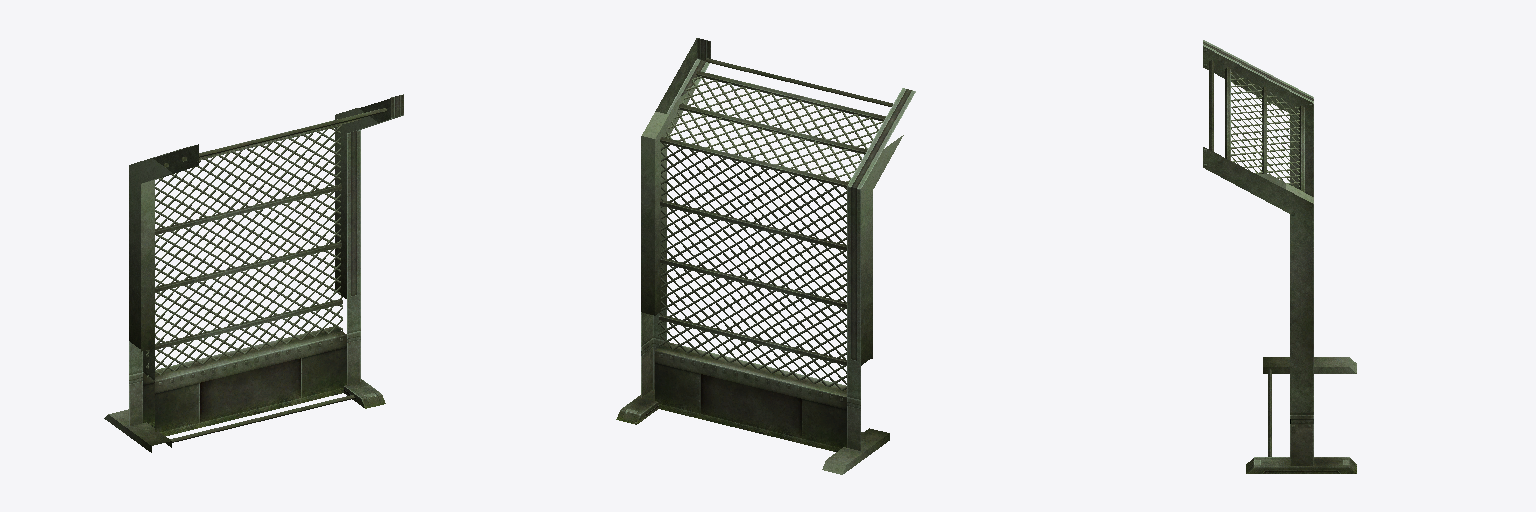
The picture shows the model from 3 angles: view 1: azimuth 30°, elevation 25°; view 2: azimuth 150°, elevation 25°; view 3: azimuth 270°, elevation 25°; orthographic projection.
Parts seen in each view (by area): view 1: obj00_obj00Shape.002; view 2: obj00_obj00Shape.002; view 3: obj00_obj00Shape.002.
Boxes of the visible parts, x1,y1,x2,y2 form: obj00_obj00Shape.002: [104, 94, 403, 452]; obj00_obj00Shape.002: [616, 38, 915, 474]; obj00_obj00Shape.002: [1203, 40, 1356, 473].
Bounding box in the file's own units: 4.12 × 5.69 × 2.44.
2 materials, 1 textured.